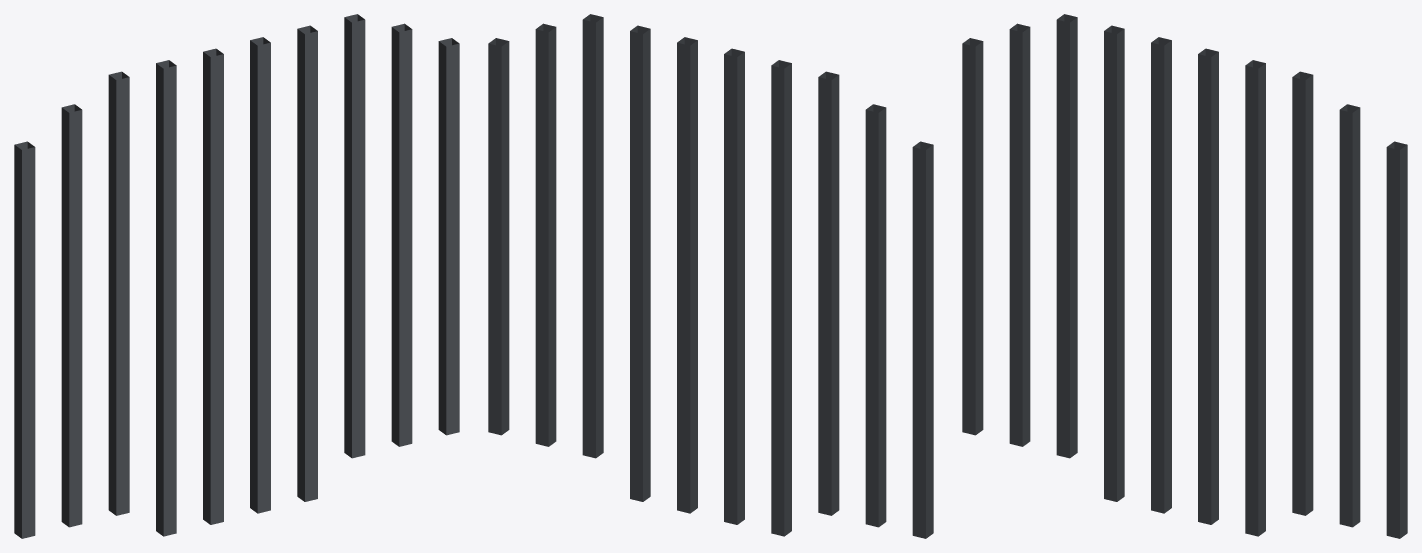
Rendered from AI_Env_Sewer_Grate_Block.fbx.
3 renders of one model, left to right at view 1: azimuth 30°, elevation 25°; view 2: azimuth 150°, elevation 25°; view 3: azimuth 330°, elevation 25°, orthographic.
Visible parts, largest first — view 1: AI_Env_Sewer_Grate_Block; view 2: AI_Env_Sewer_Grate_Block; view 3: AI_Env_Sewer_Grate_Block.
Part boxes in pixels (x1,y1,x2,y2): AI_Env_Sewer_Grate_Block: [14, 14, 459, 538]; AI_Env_Sewer_Grate_Block: [488, 14, 933, 538]; AI_Env_Sewer_Grate_Block: [962, 14, 1407, 538].
Size of the model in its own units: 4.64 by 4.74 by 0.1392.
